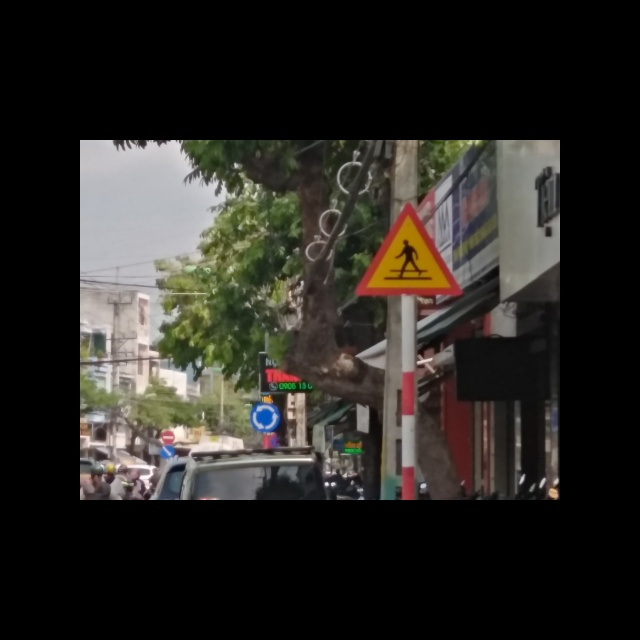Nơi giao nhau chạy theo vòng xuyến: (248, 401, 280, 431)
Đường người đi bộ sang đường: (351, 202, 463, 298)
